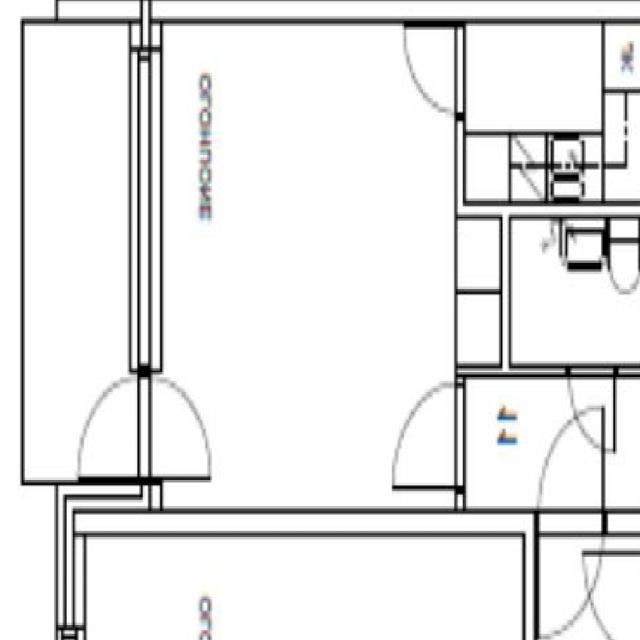door: (68, 376, 162, 479), (131, 376, 224, 479), (538, 402, 604, 532), (538, 510, 604, 640), (393, 384, 465, 488), (403, 27, 464, 114), (569, 364, 616, 452)
